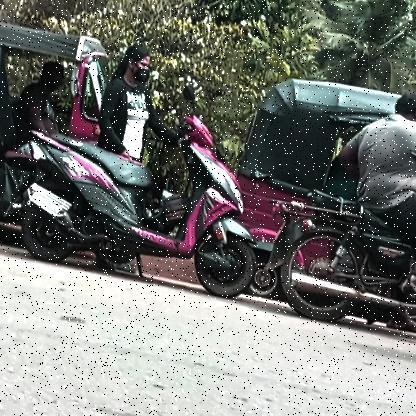motorcycle: (6, 106, 263, 309), (260, 150, 416, 336)
